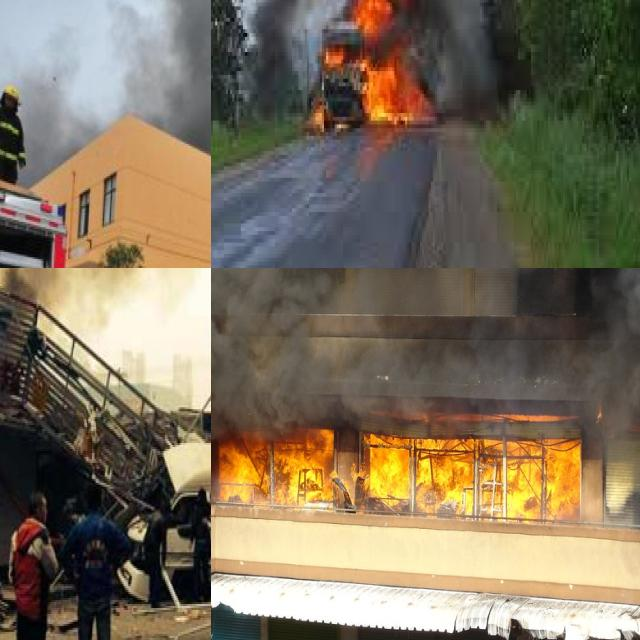fire: (215, 420, 585, 526), (300, 0, 449, 136)
smoke: (342, 268, 640, 430), (19, 0, 211, 181), (211, 268, 335, 440), (245, 0, 328, 109), (428, 0, 488, 109)
